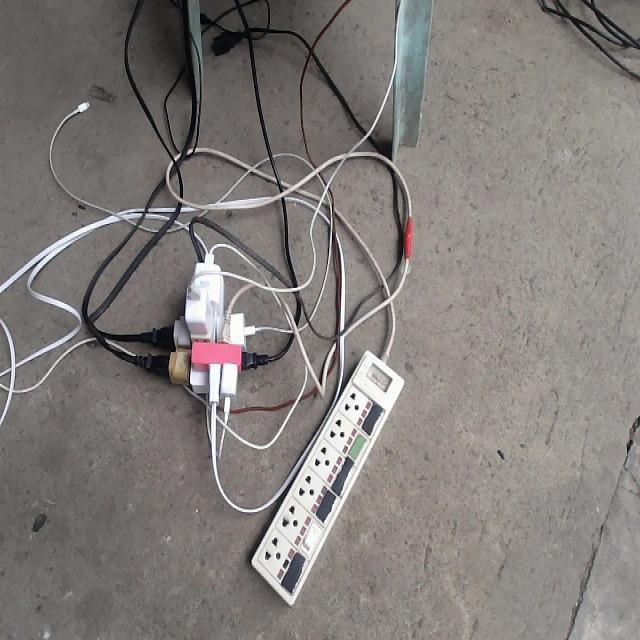-: (142, 245, 262, 418)
